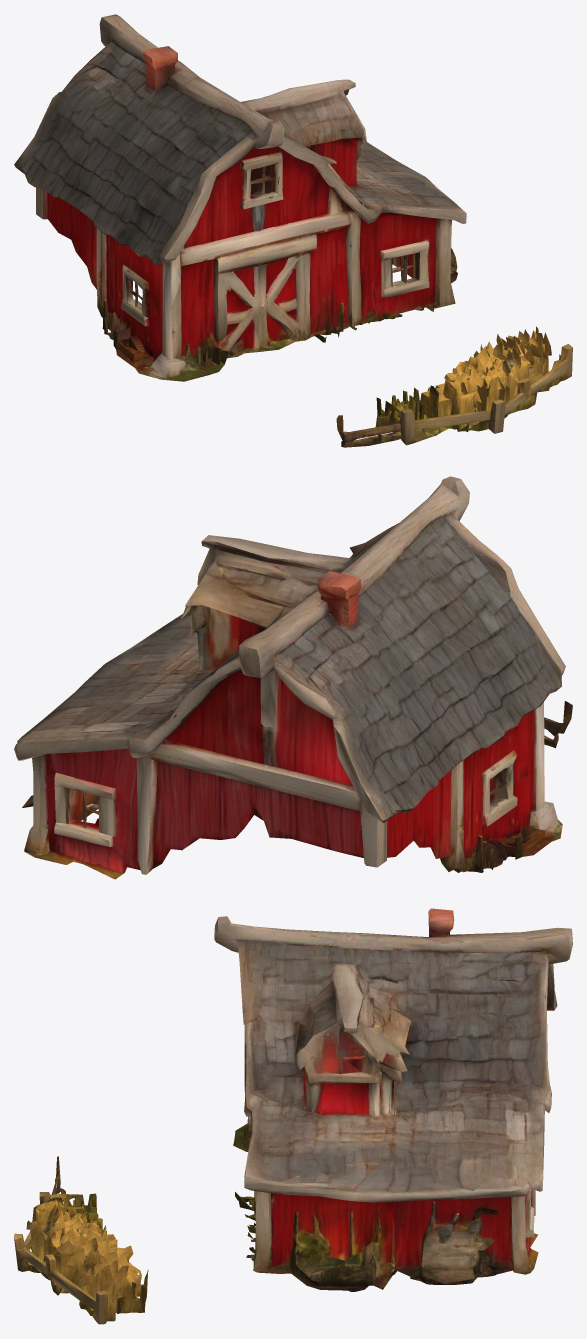
File: farm.glb
The picture shows the model from 3 angles, top to bottom: view 1: azimuth 30°, elevation 25°; view 2: azimuth 150°, elevation 25°; view 3: azimuth 270°, elevation 25°; orthographic projection. The views are drawn at different scales.
Parts seen in each view (by area): view 1: farm; view 2: farm; view 3: farm.
Part boxes in pixels (x1,y1,x2,y2): farm: (14,14,572,447); farm: (14,476,572,879); farm: (14,908,572,1324).
Bounding box in the file's own units: 1.13 × 0.8357 × 1.48.
Materials: 1 (1 with a texture image).
